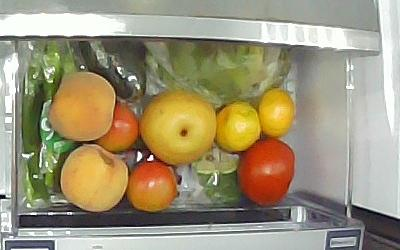peach: (46, 70, 116, 141), (58, 142, 129, 211)
pear: (137, 87, 217, 164)
tangerine: (213, 98, 261, 152), (257, 85, 295, 136)
tomato: (234, 135, 295, 205), (124, 159, 176, 211), (93, 99, 139, 151)
